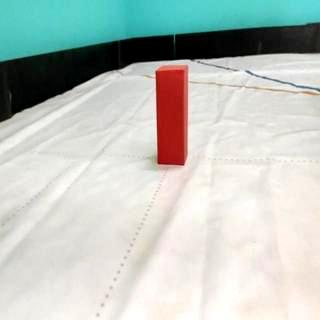redbox: (156, 65, 187, 166)
